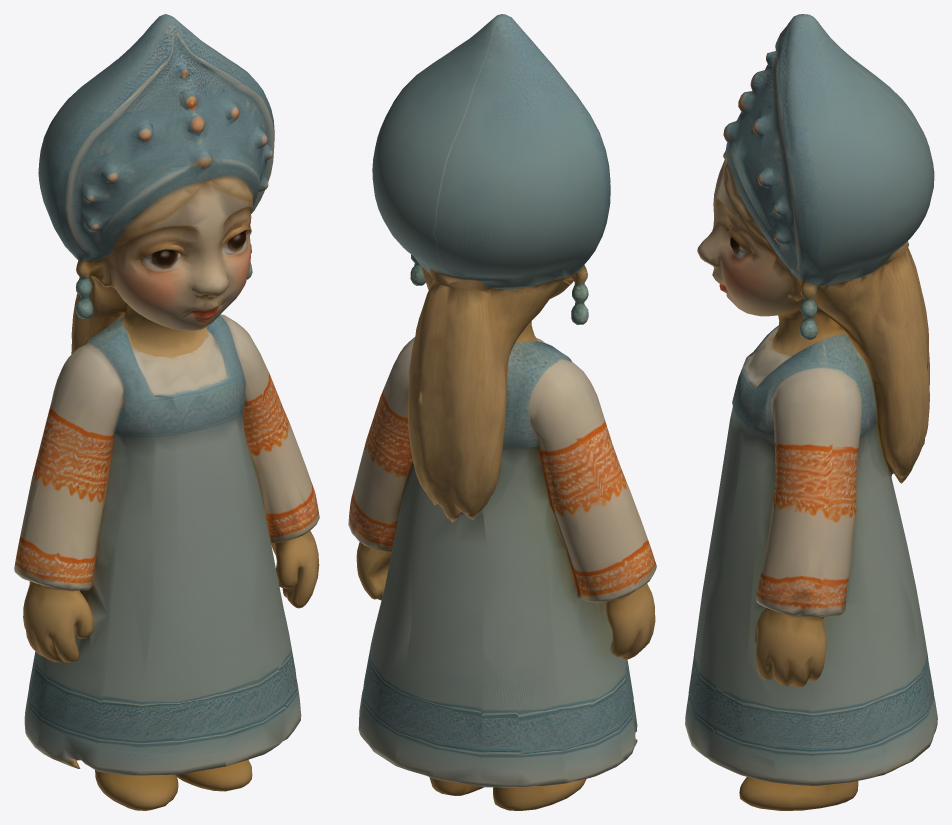
Rendered from doll_2_C.fbx.
The picture shows the model from 3 angles, left to right: view 1: azimuth 30°, elevation 25°; view 2: azimuth 150°, elevation 25°; view 3: azimuth 270°, elevation 25°; orthographic projection.
Visible parts, largest first — view 1: material; view 2: material; view 3: material.
Boxes of the visible parts, box(x1,y1,x2,y2) form: material: box(14, 14, 319, 810); material: box(348, 14, 656, 810); material: box(685, 14, 937, 810).
Bounding box in the file's own units: 47.06 × 118 × 35.24.
